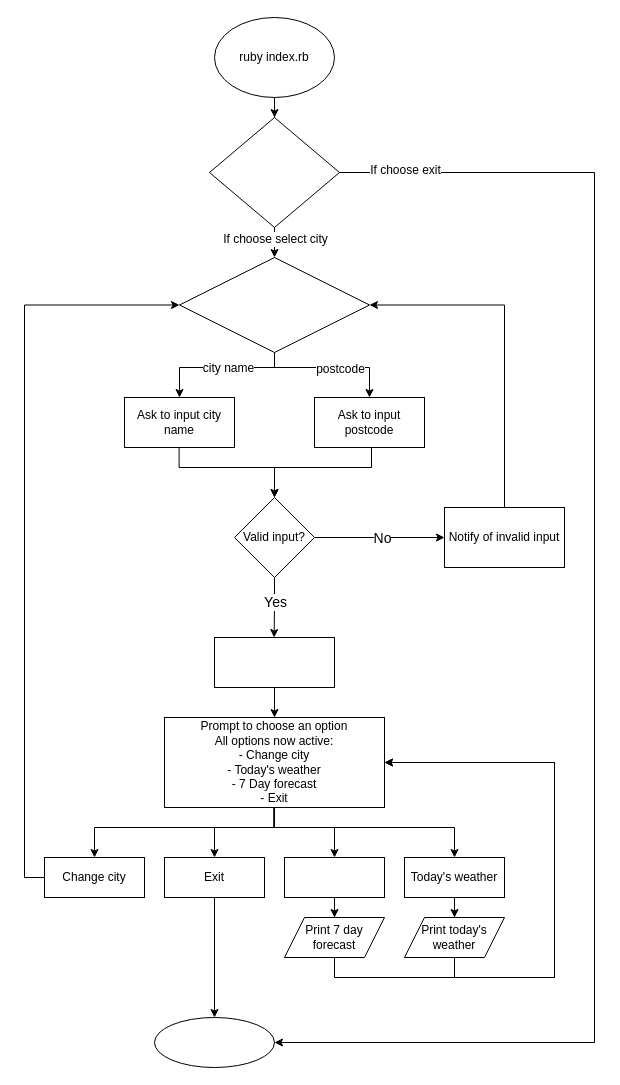
Some shapes in this 620 by 1085 pixel diagram are drawn without their labels. Here are the shapes that lost their labels. From the top down, the centre of each, then its label:
pixel 274 172: Choose an option - Select city - Exit
pixel 274 304: Choose search option - City name - Postcode
pixel 274 662: Set global variable to chosen city
pixel 334 877: 7 Day forecast
pixel 214 1042: End
